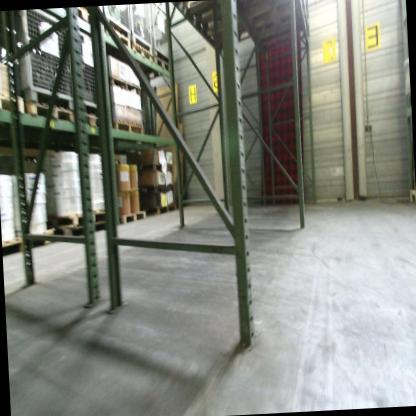pallet: (186, 0, 317, 51), (22, 93, 77, 136), (47, 219, 118, 247), (1, 226, 58, 260), (134, 161, 176, 197), (52, 202, 110, 227), (106, 73, 143, 102), (73, 105, 110, 132), (109, 116, 147, 140), (104, 19, 131, 51), (0, 85, 24, 120), (129, 41, 155, 68), (144, 201, 181, 219), (119, 203, 147, 225), (150, 53, 171, 78), (407, 188, 416, 209)
stillage: (0, 13, 77, 106), (62, 13, 105, 114), (150, 3, 173, 62), (127, 3, 152, 55), (101, 5, 133, 38)
